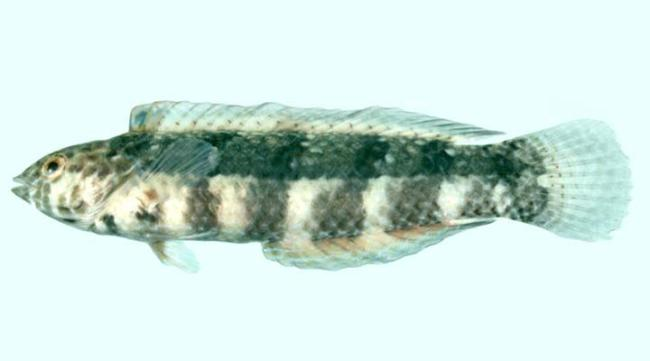fish: (11, 100, 634, 272)
